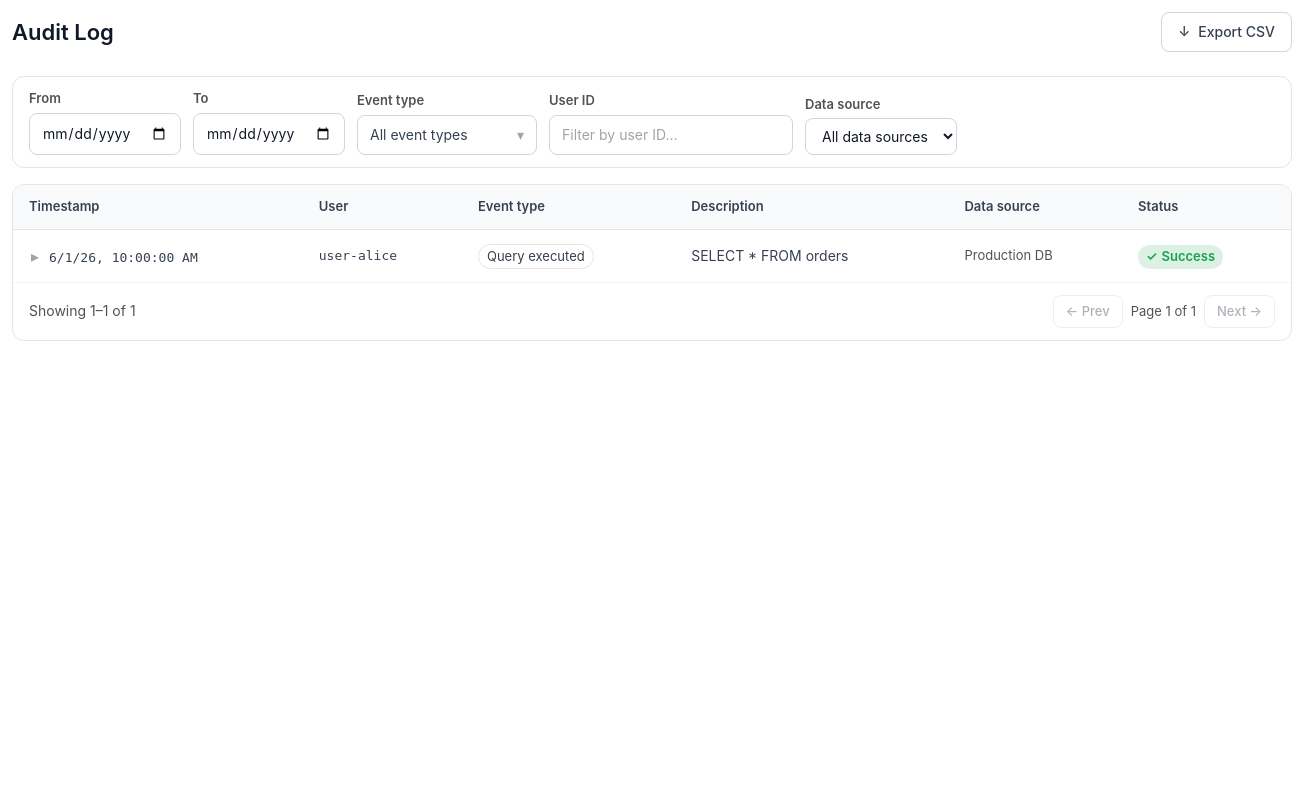
Test: AuditLogPage — row expansion detail panel › collapses detail panel on second click
Check: the table is shown, box [13,185,1291,283]
Click the button named "Expand event evt-1".
click(35, 256)  # box [29,242,41,270]
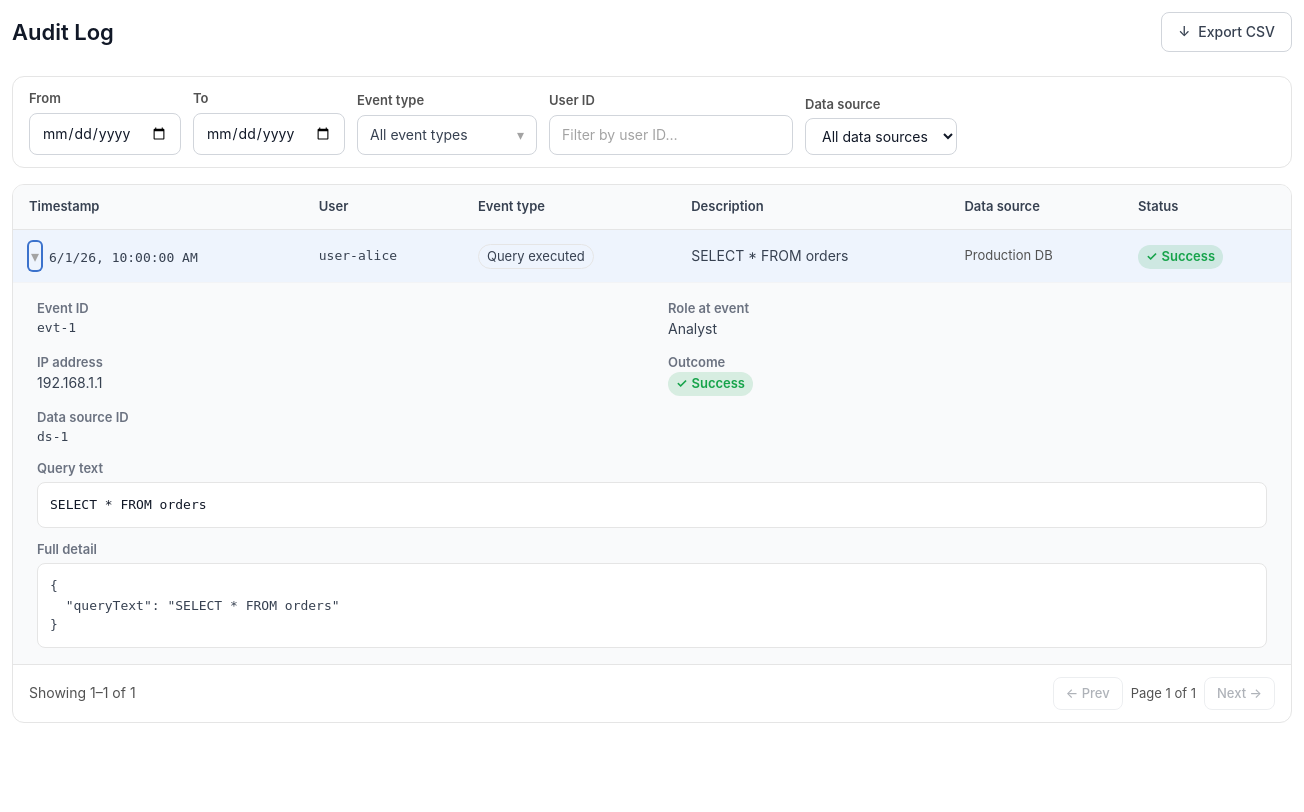
Check: the text "Role at event" is shown, box [668,300,749,316]
Click the button named "Collapse event evt-1".
click(35, 256)  # box [29,242,41,270]
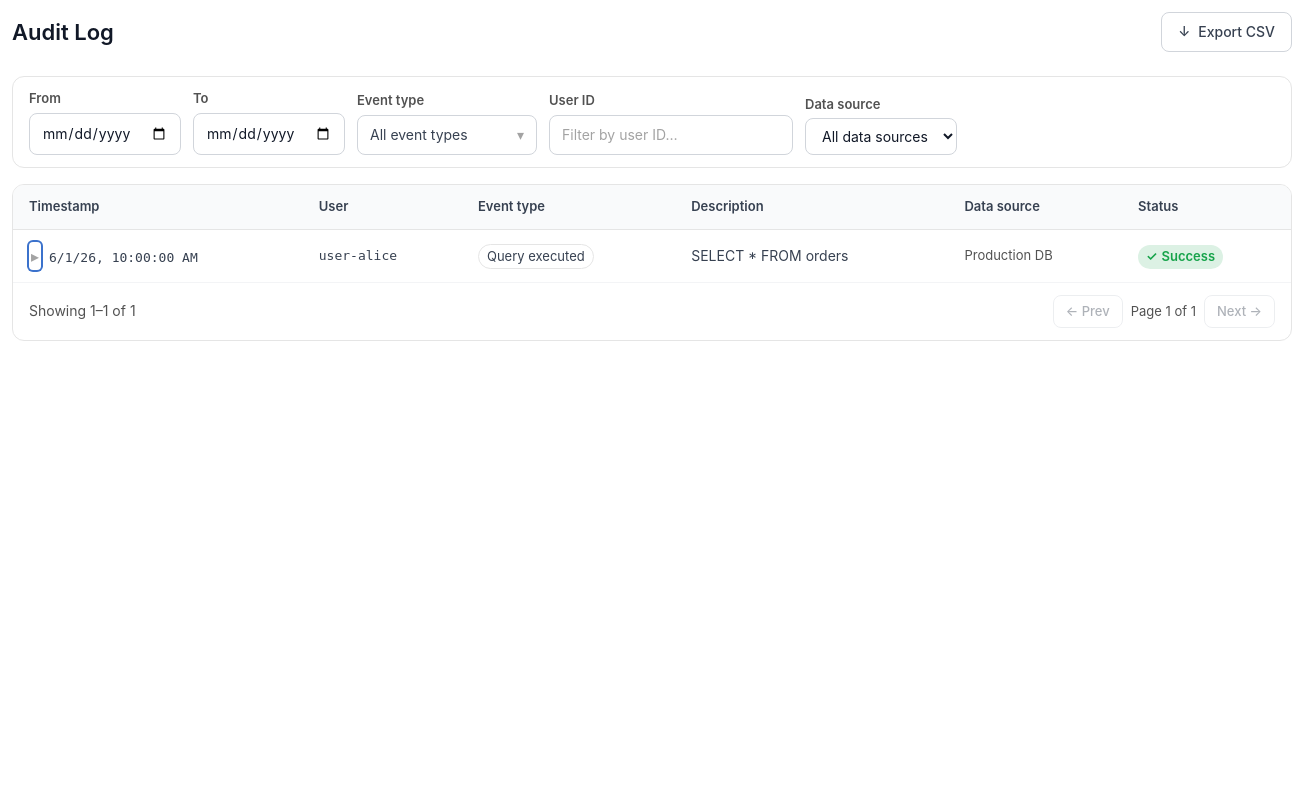
Check: the text "Role at event" is gone
